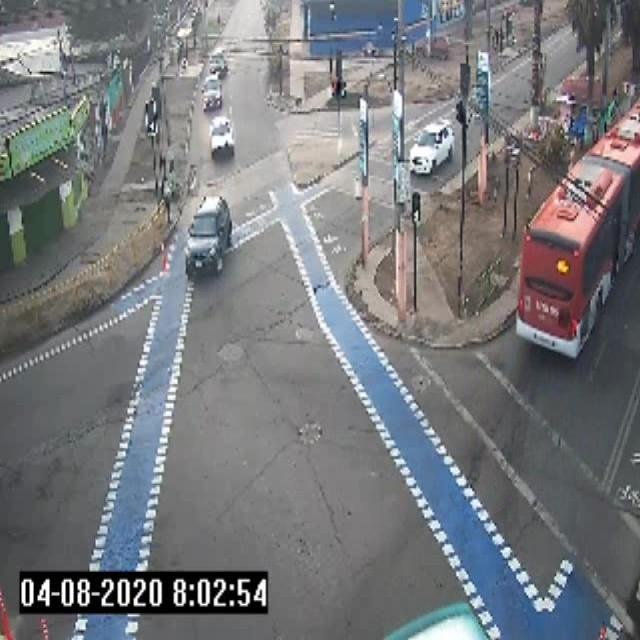AB: (504, 96, 640, 372)
